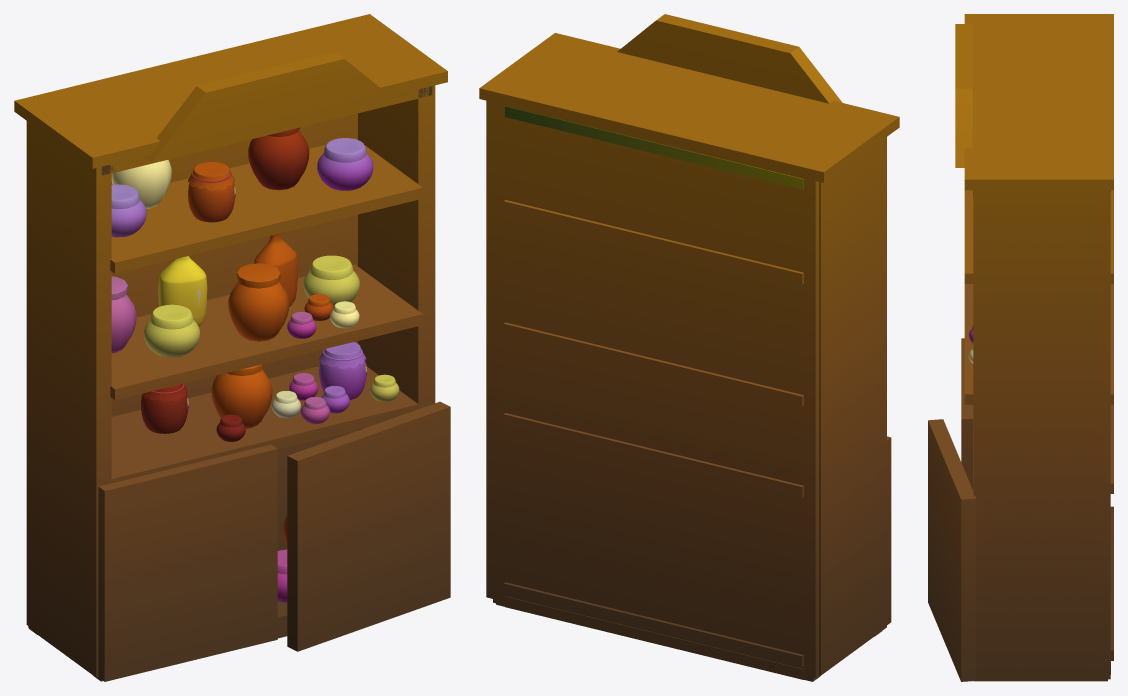
The model's file is SM_Shelvings2.fbx.
3 renders of one model, left to right at view 1: azimuth 30°, elevation 25°; view 2: azimuth 150°, elevation 25°; view 3: azimuth 270°, elevation 25°, orthographic. The views are drawn at different scales.
Parts seen in each view (by area): view 1: SM_Shelvings_02; view 2: SM_Shelvings_02; view 3: SM_Shelvings_02.
Part boxes in pixels (x1=…): SM_Shelvings_02: x1=14, y1=14, x2=450, y2=681; SM_Shelvings_02: x1=479, y1=14, x2=899, y2=681; SM_Shelvings_02: x1=928, y1=14, x2=1113, y2=681.
Size of the model in its own units: 263 by 404 by 124.
